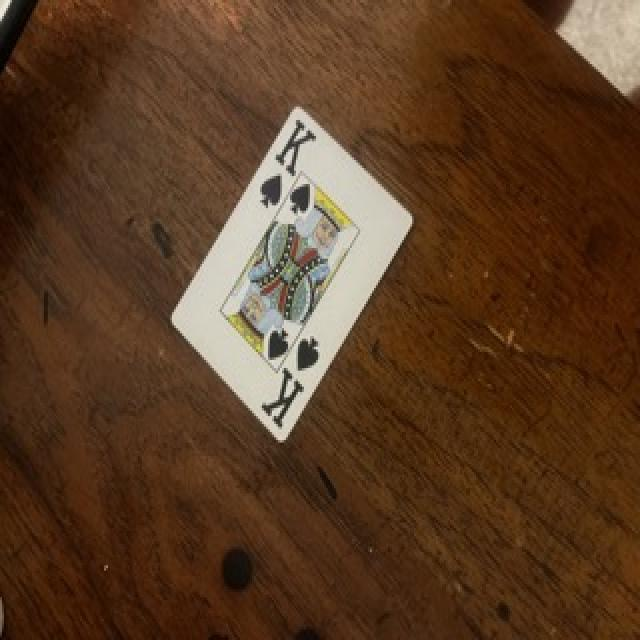King of spades: (171, 107, 412, 442)
